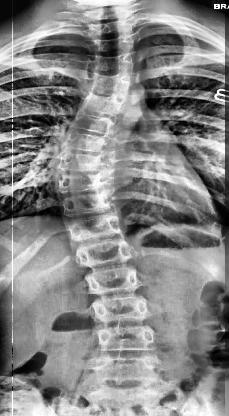Vertebrae: (91, 355, 157, 387), (65, 212, 125, 246), (82, 264, 142, 298), (95, 324, 156, 356), (54, 188, 116, 218), (72, 238, 132, 268), (89, 295, 149, 325), (51, 168, 115, 196), (62, 128, 120, 158), (55, 150, 115, 176), (76, 90, 130, 118), (86, 70, 138, 98), (87, 53, 139, 77), (69, 112, 120, 136), (86, 18, 138, 40), (87, 36, 137, 56)
